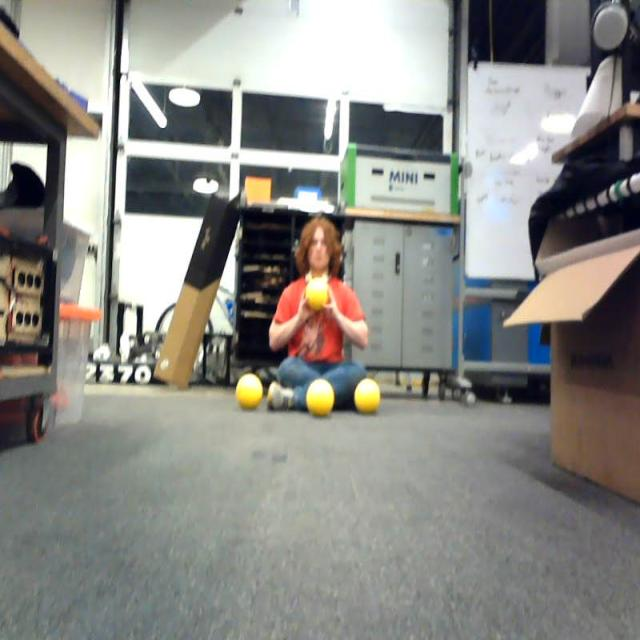Fuel: (306, 378, 334, 417), (235, 373, 262, 410), (355, 378, 380, 414), (305, 279, 329, 312)
